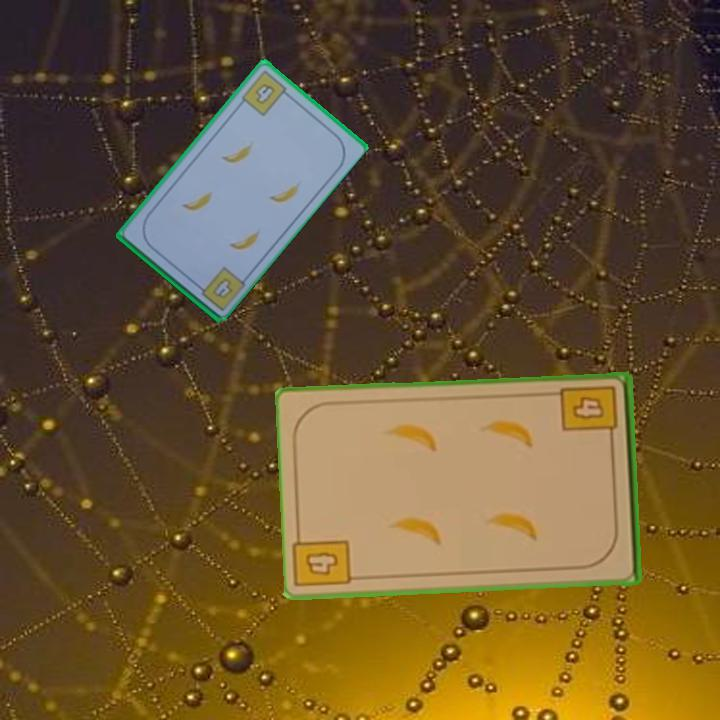4b: (558, 382, 621, 446), (237, 67, 293, 119), (301, 548, 341, 580), (209, 274, 235, 301)
